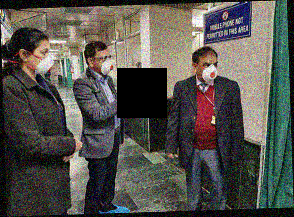with_mask: (29, 46, 55, 75), (197, 59, 219, 83), (94, 53, 114, 75)
